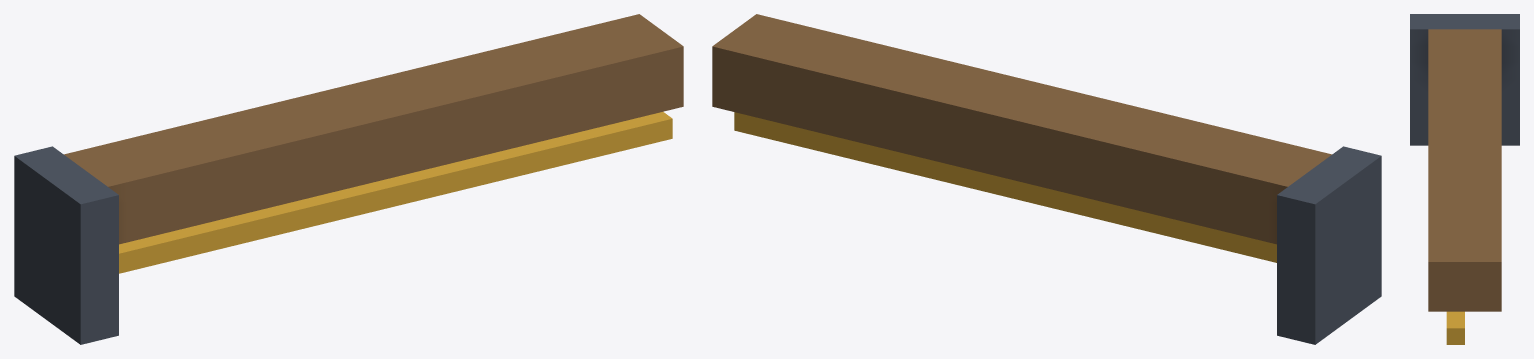
File: pad_arm_e1.glb
3 renders of one model, left to right at view 1: azimuth 30°, elevation 25°; view 2: azimuth 150°, elevation 25°; view 3: azimuth 270°, elevation 25°, orthographic. The views are drawn at different scales.
Visible parts, largest first — view 1: Base; view 2: Base; view 3: Base.
Boxes of the visible parts, x1,y1,x2,y2 form: Base: [14, 14, 683, 344]; Base: [712, 14, 1381, 344]; Base: [1410, 14, 1519, 344].
Bounding box in the file's own units: 3.2 × 0.7 × 0.6.
